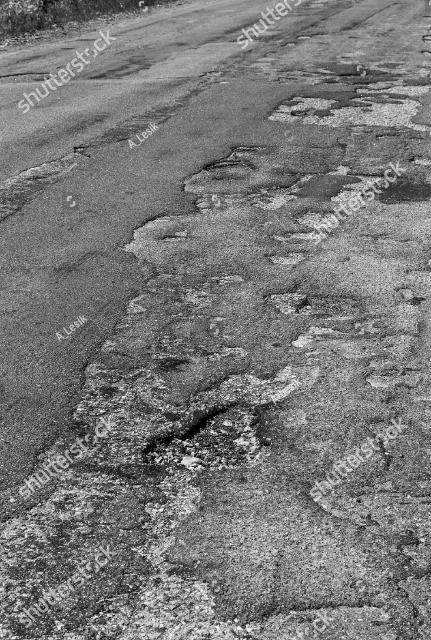Pothole: (134, 401, 276, 474)
